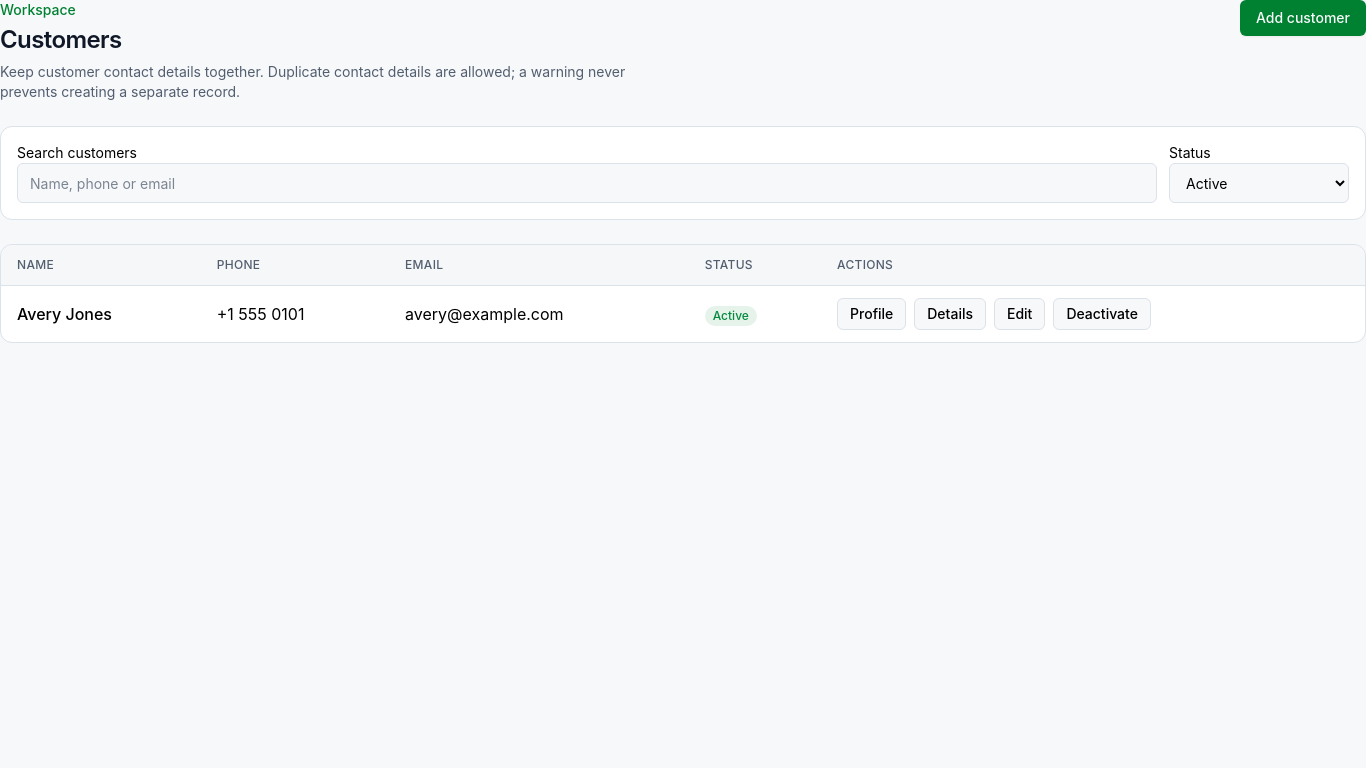
Test: customer directory › shows private note in details and supports editing for owner
The width and height of the screenshot is (1366, 768).
Click the button with aria-label "View details for Avery Jones": x=950, y=314 [914,298,986,330]
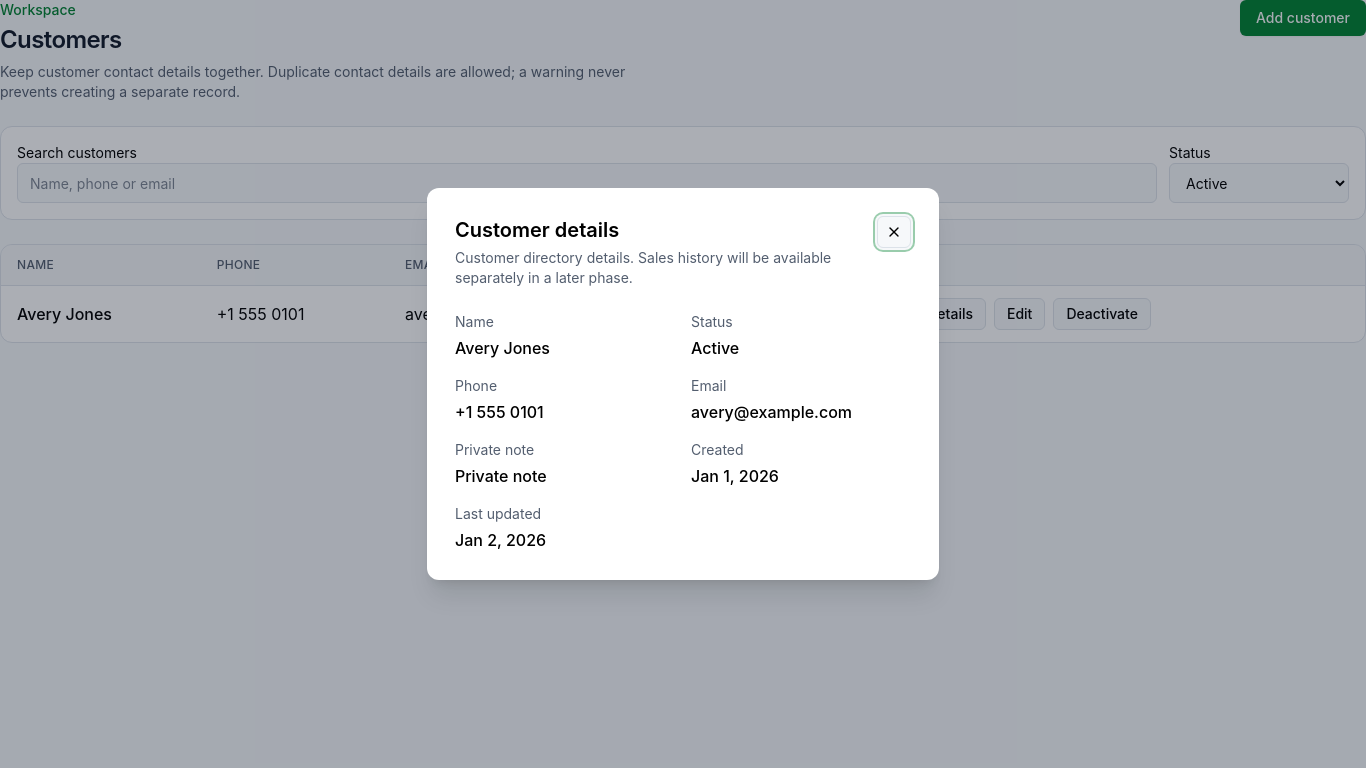
Result: the 1st text "Private note" is shown at [455,441,534,458]
Click the button named "Close dialog": x=894, y=232 [877,216,911,248]
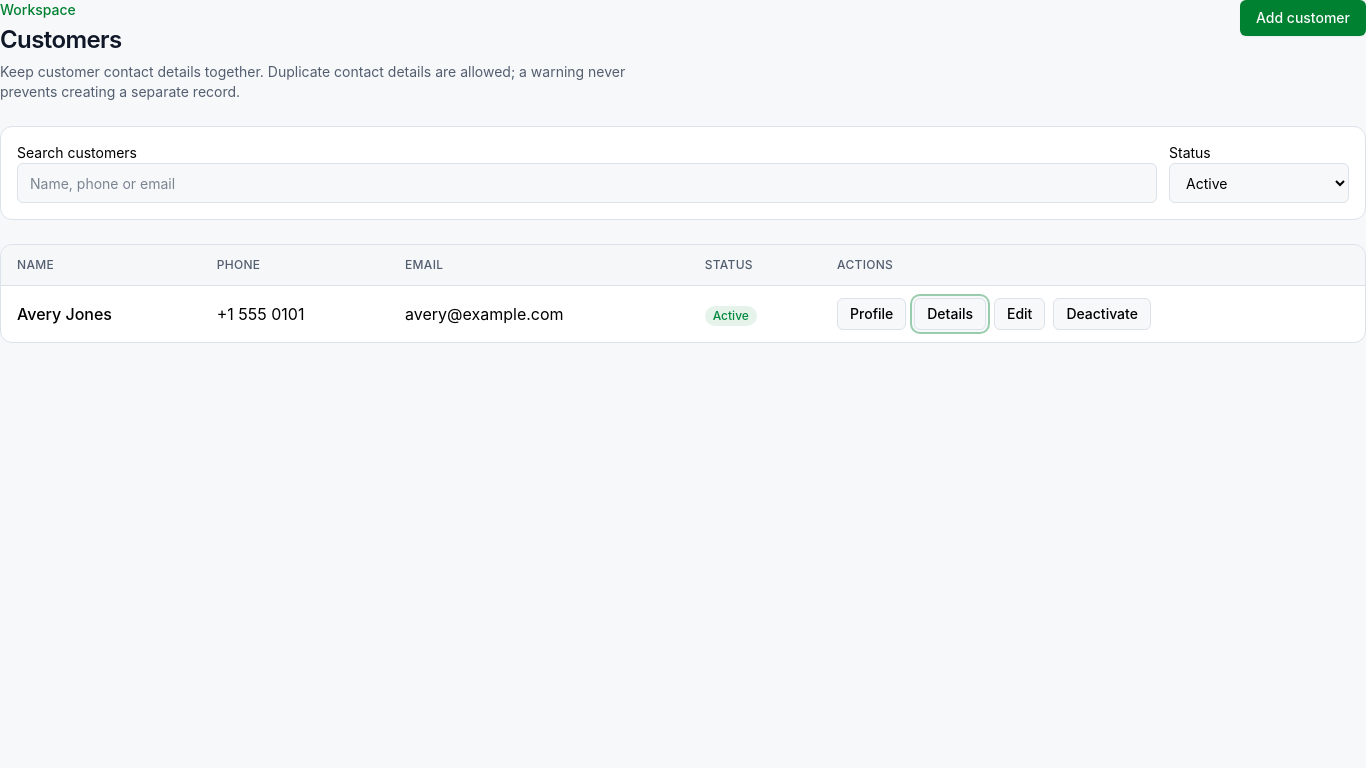
Click the button with aria-label "Edit Avery Jones": x=1020, y=314 [994,298,1045,330]
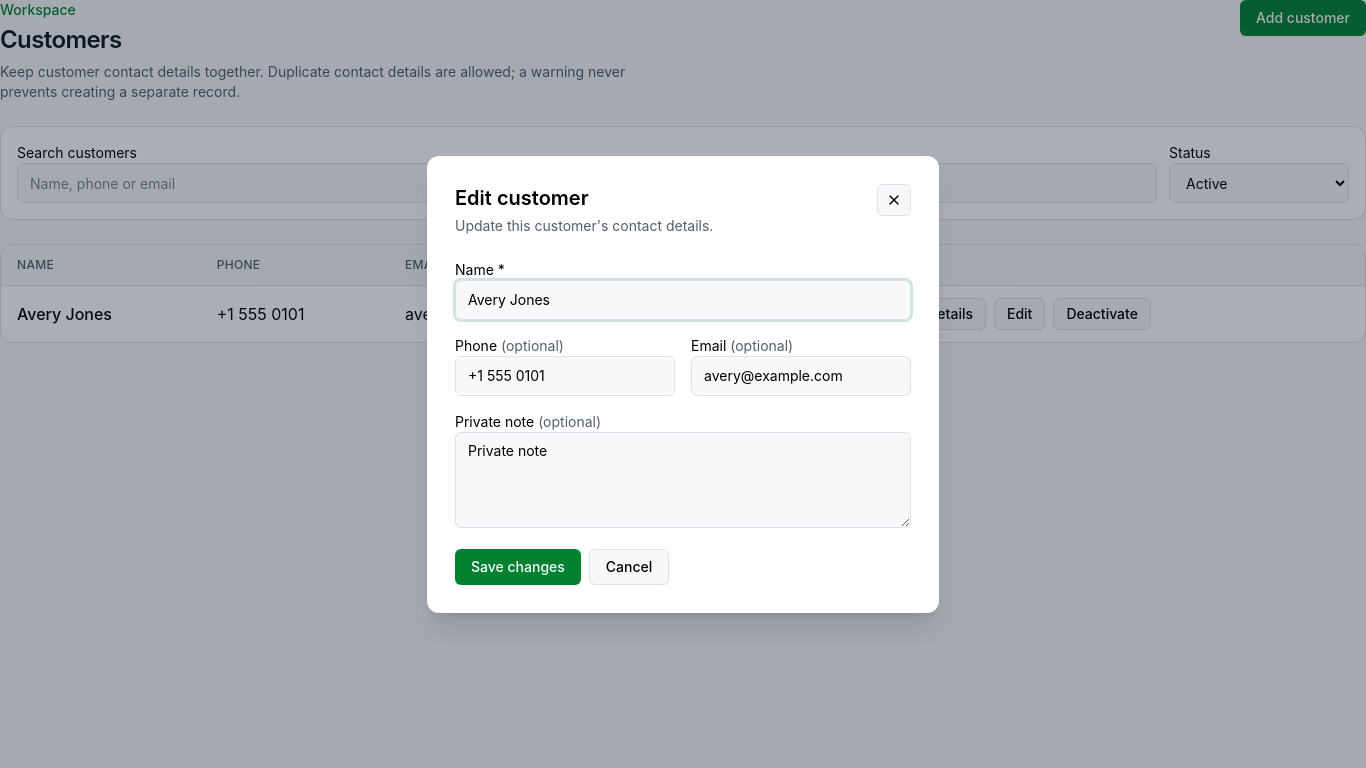
Result: the text box labelled "Private note (optional)" holds "Private note" at [455,432,911,528]
